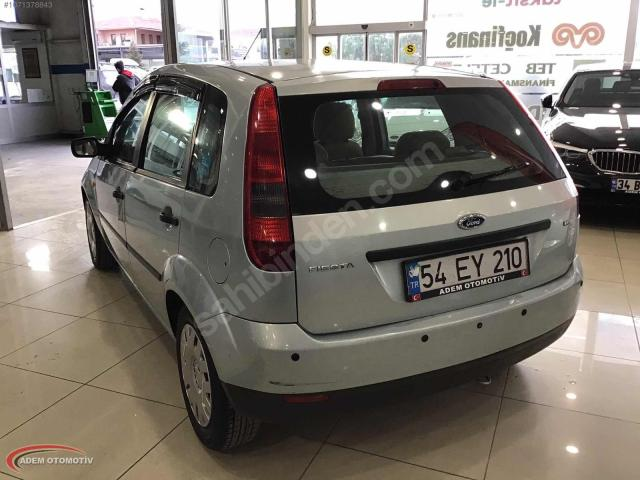plaka: (405, 238, 530, 302)
